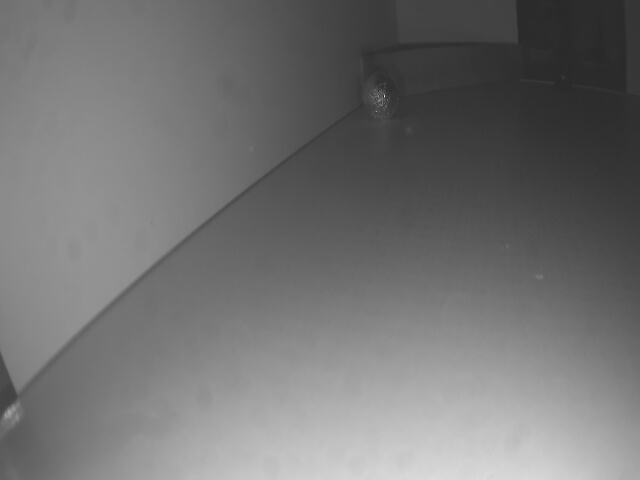Dead: (553, 63, 576, 89)
Green: (363, 46, 525, 99)
Live: (360, 71, 402, 121)
